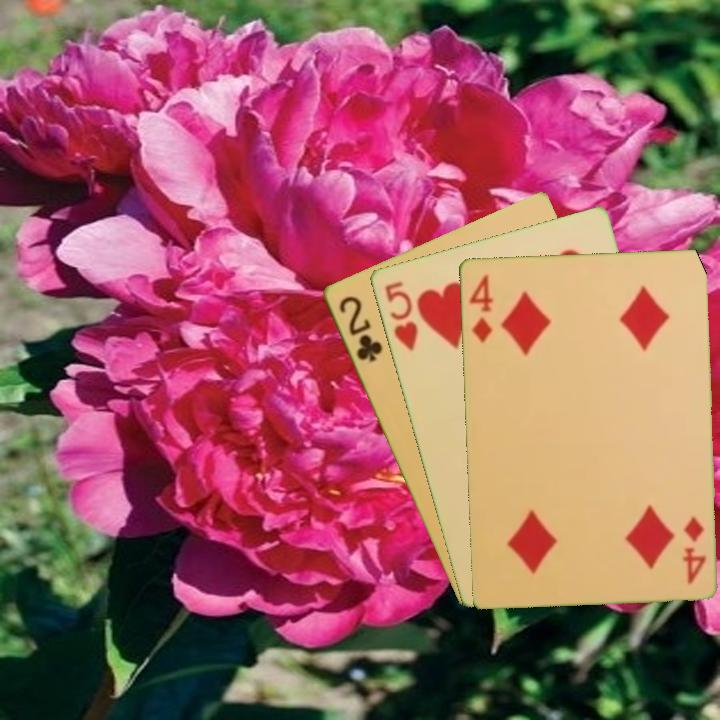2c: (334, 292, 385, 365)
4d: (465, 270, 496, 346), (679, 513, 709, 586)
5h: (381, 278, 420, 353)
